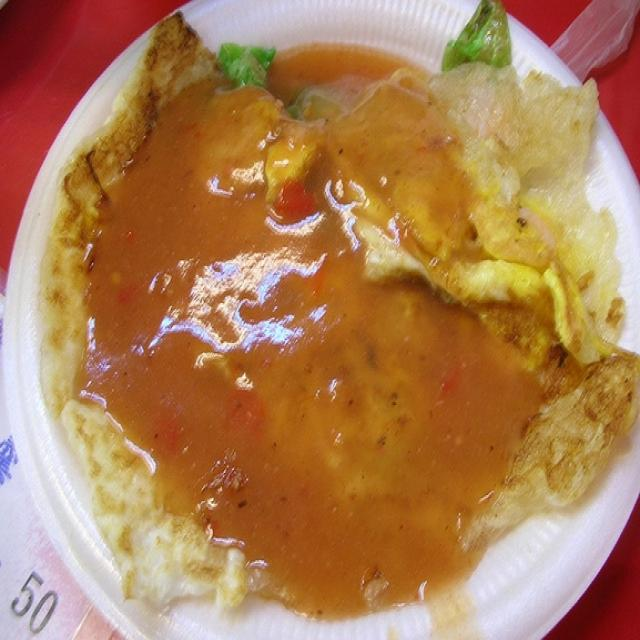熟制海鲜: (20, 21, 623, 631)
